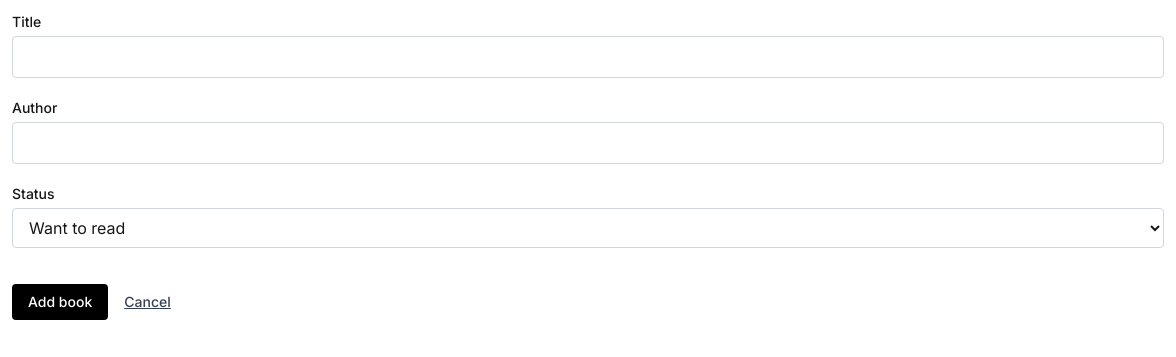
it: CreateBookForm › shows the form-level message when adding fails
Step 1. Type "Dune" into the field labelled "Title" → (588, 57), box [12, 36, 1164, 78]
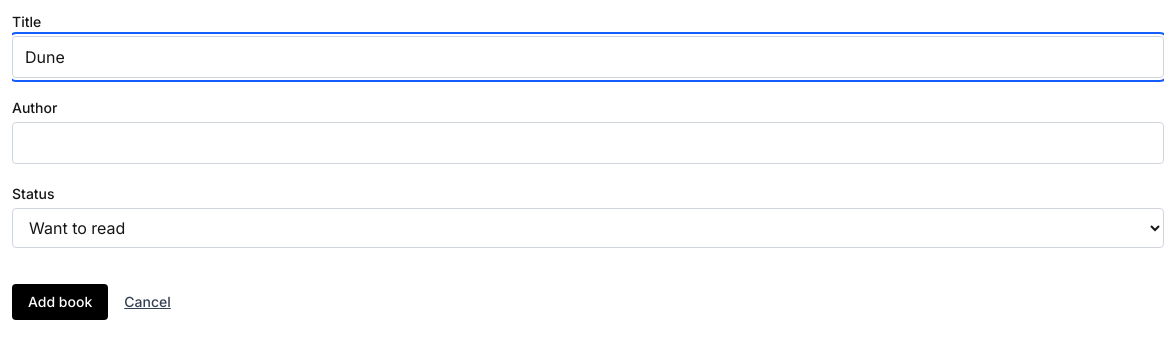
Step 2. Type "Frank Herbert" into the field labelled "Author" → (588, 143), box [12, 122, 1164, 164]
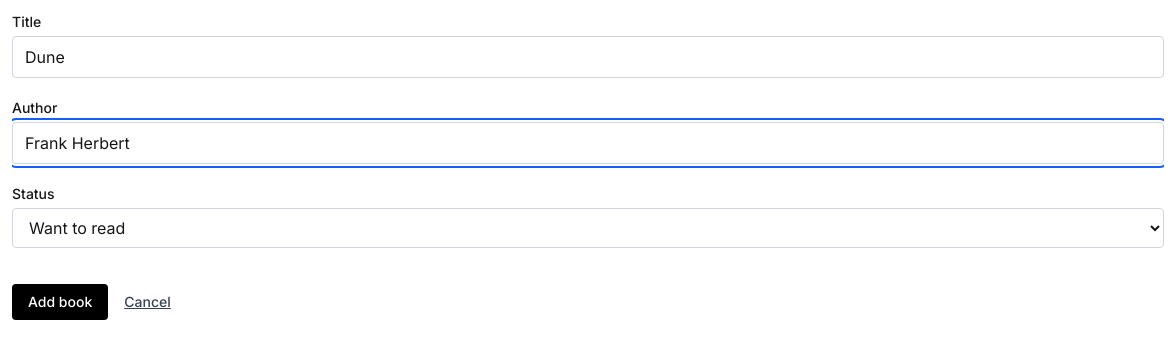
Step 3. Click the button "Add book" → (60, 302), box [12, 284, 108, 320]
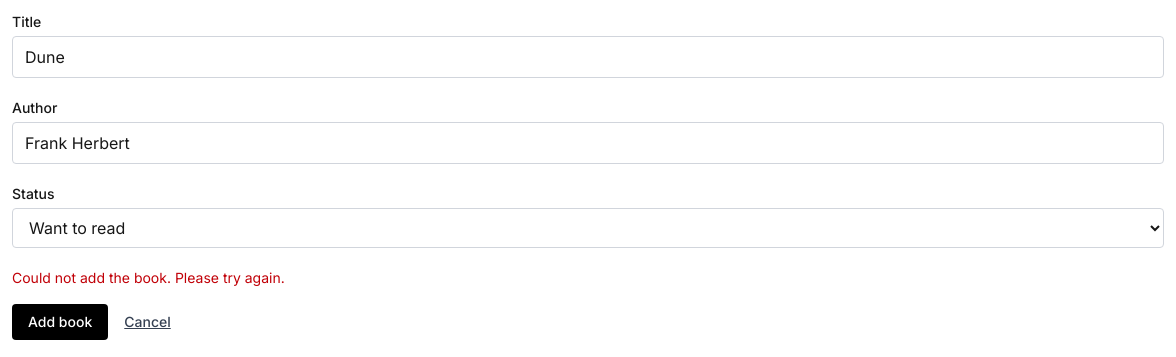
Check: the text "Could not add the book. Please try again." is shown, box [12, 269, 285, 286]
